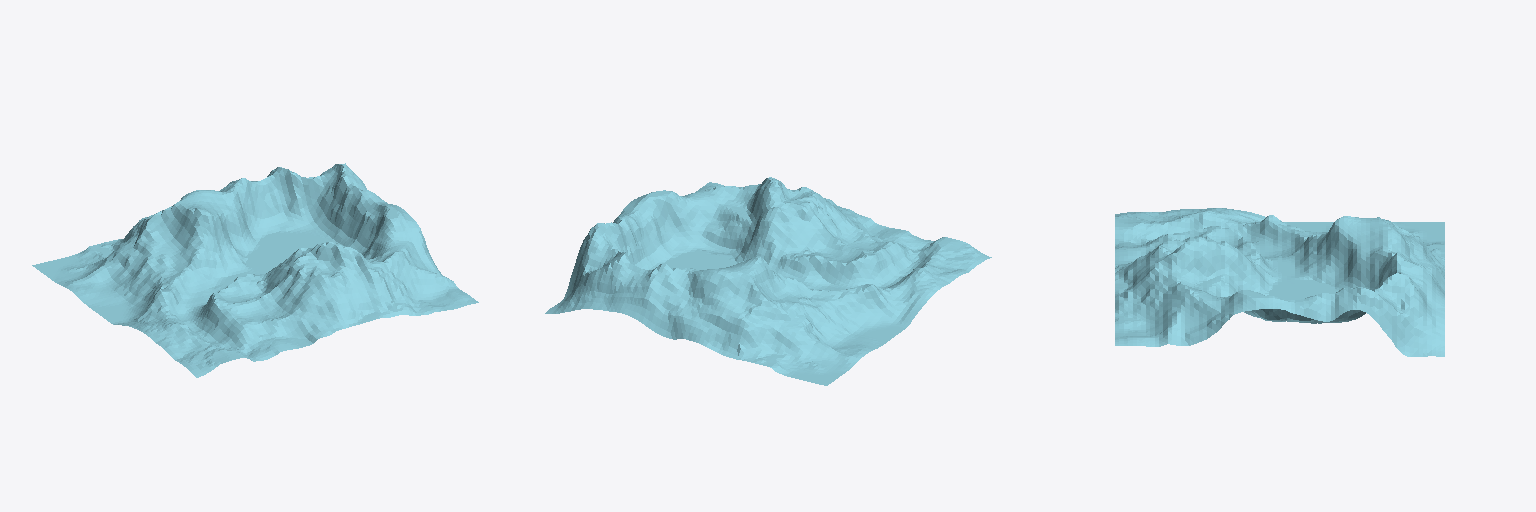
The model's file is terrain.obj.
The picture shows the model from 3 angles: view 1: azimuth 30°, elevation 25°; view 2: azimuth 150°, elevation 25°; view 3: azimuth 270°, elevation 25°; orthographic projection.
Parts seen in each view (by area): view 1: Plane001; view 2: Plane001; view 3: Plane001.
Boxes of the visible parts, box(x1,y1,x2,y2) form: Plane001: box(32, 163, 478, 377); Plane001: box(545, 177, 991, 385); Plane001: box(1115, 208, 1444, 356).
Bounding box in the file's own units: 5425 × 1297 × 5480.